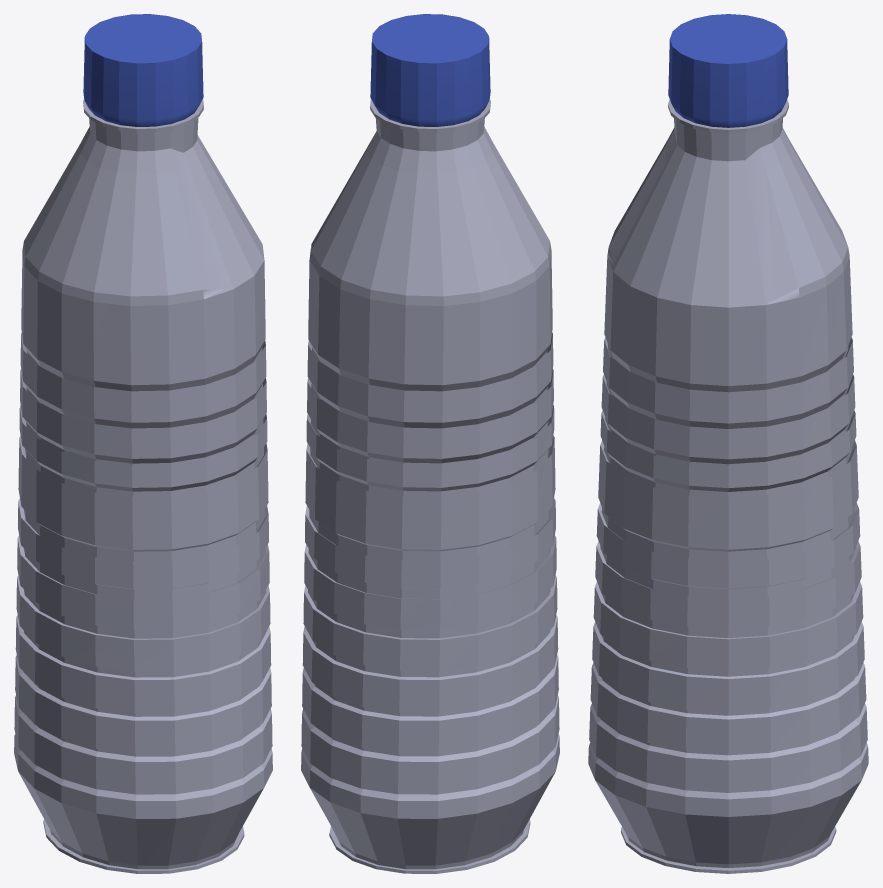
File: waterbottle.glb
The picture shows the model from 3 angles, left to right: view 1: azimuth 30°, elevation 25°; view 2: azimuth 150°, elevation 25°; view 3: azimuth 270°, elevation 25°; orthographic projection.
Visible parts, largest first — view 1: pPipe6; view 2: pPipe6; view 3: pPipe6.
Boxes of the visible parts, <box> form: pPipe6: <box>14,14,272,873</box>; pPipe6: <box>301,14,559,873</box>; pPipe6: <box>588,14,868,873</box>.
Size of the model in its own units: 0.6886 by 2.39 by 0.765.
